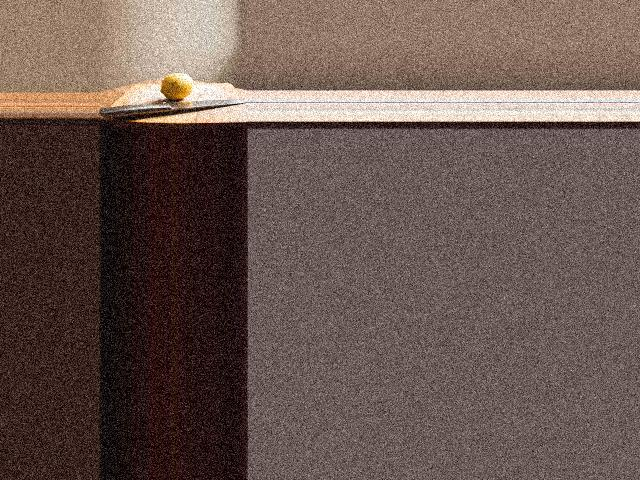lemon: (157, 70, 194, 99)
